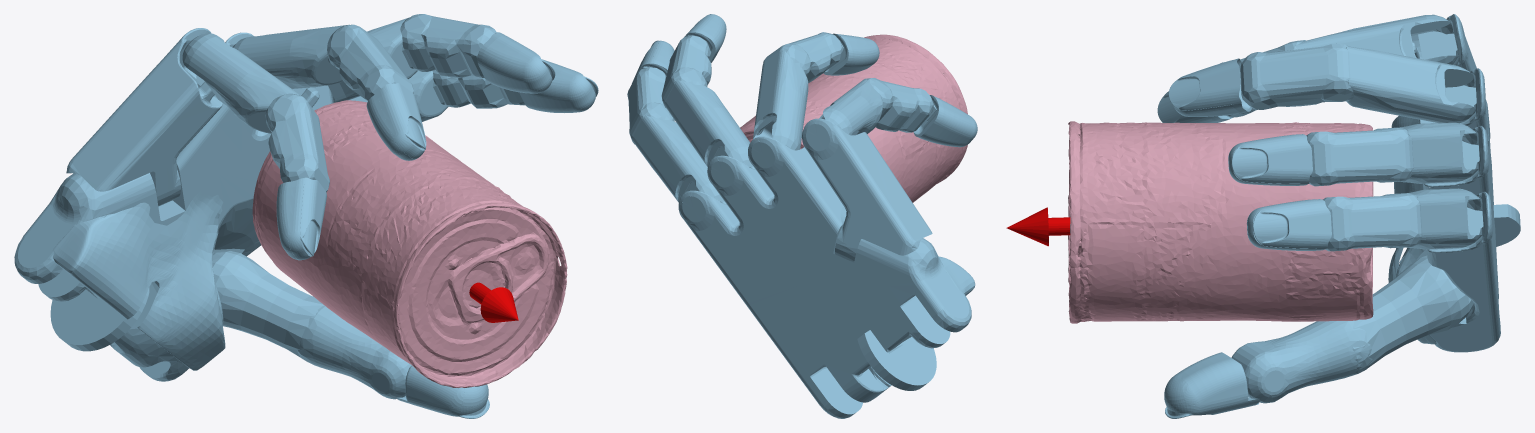
3 renders of one model, left to right at view 1: azimuth 30°, elevation 25°; view 2: azimuth 150°, elevation 25°; view 3: azimuth 270°, elevation 25°, orthographic. The views are drawn at different scales.
Parts seen in each view (by area): view 1: world, tomato_soup_can.stl; view 2: world, tomato_soup_can.stl; view 3: world, tomato_soup_can.stl.
Boxes of the visible parts, <box> form: world: <box>14,14,598,418</box>; tomato_soup_can.stl: <box>252,100,567,387</box>; world: <box>627,14,977,418</box>; tomato_soup_can.stl: <box>740,34,967,202</box>; world: <box>1006,14,1520,418</box>; tomato_soup_can.stl: <box>1068,121,1373,323</box>.
Bounding box in the file's own units: 0.1887 × 0.1373 × 0.1715.
